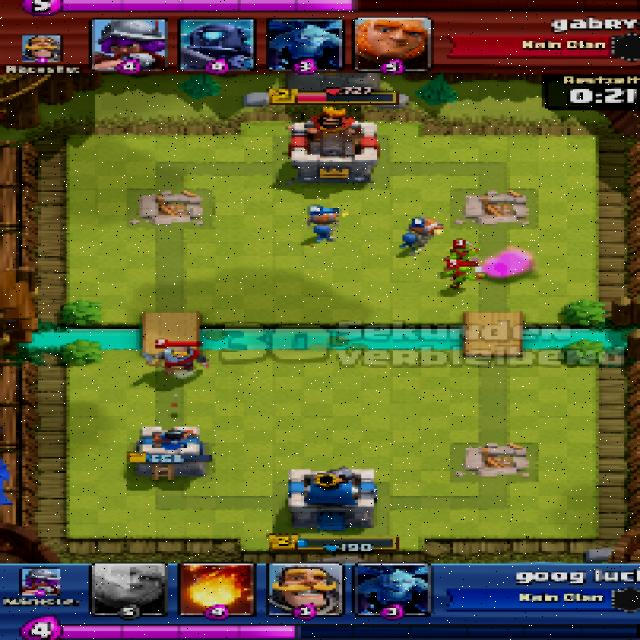Enemy-Goblin: (442, 263, 484, 290), (443, 243, 479, 264)
Enemy-Knight: (139, 346, 212, 375)
Player-Wallbreaker: (399, 217, 445, 252), (304, 207, 349, 242)
